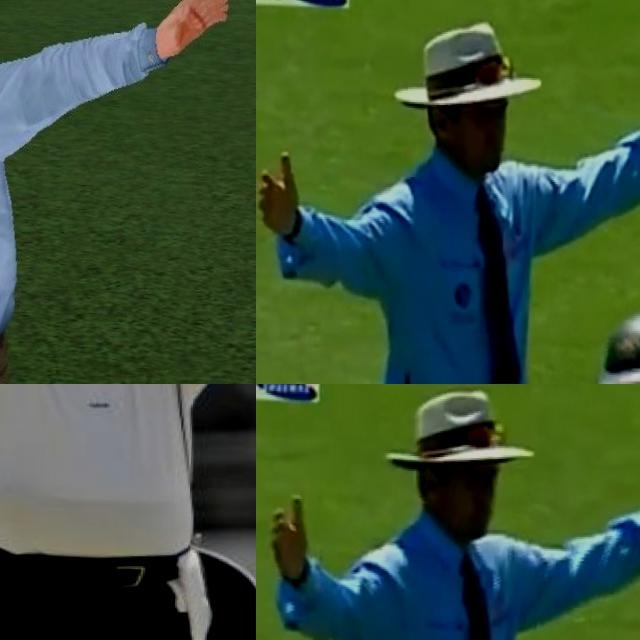No_Ball: (0, 0, 239, 384)
Six: (0, 384, 256, 640)
Wide: (256, 2, 640, 384), (256, 384, 640, 640)
